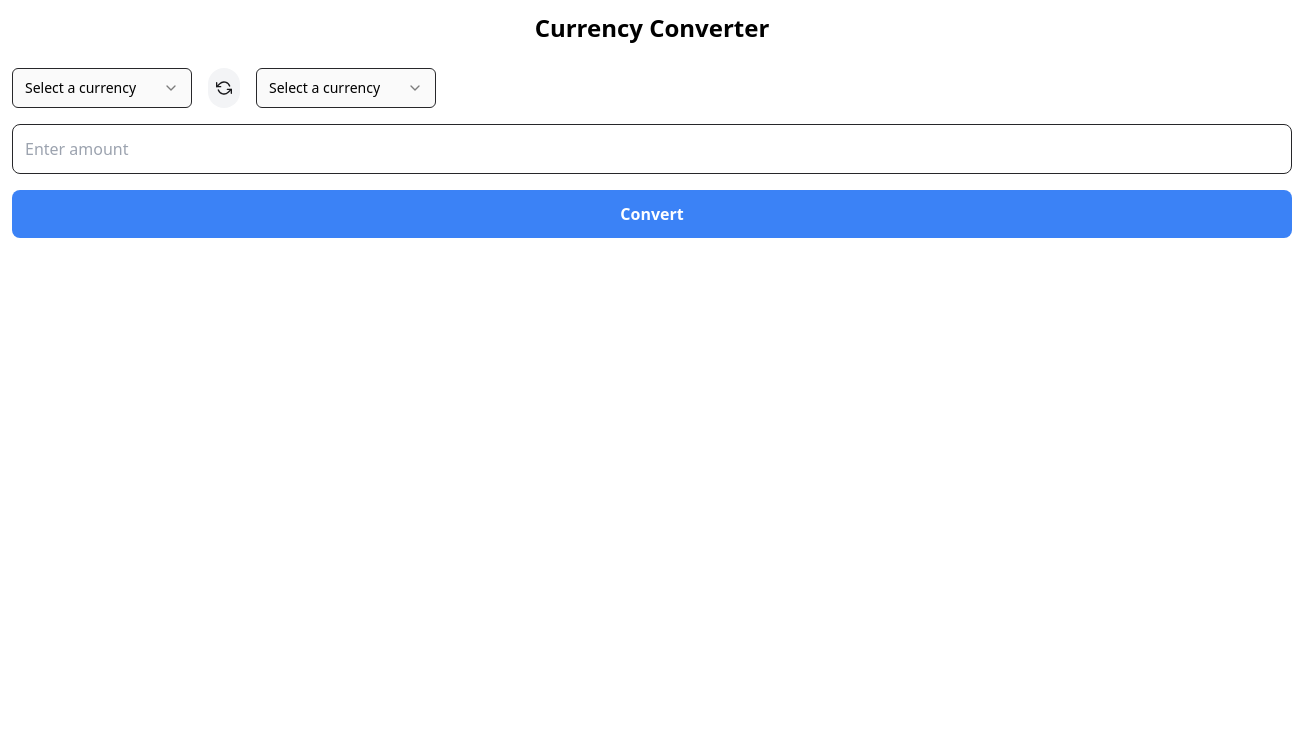
Test case: CurrencyConverter › currencies can be swapped
The width and height of the screenshot is (1304, 732).
# Open the 'From Currency' dropdown
Click the 1st dropdown labelled "Select a currency" at {"x": 102, "y": 88}, box [12,68,192,108]
(page scrolled)
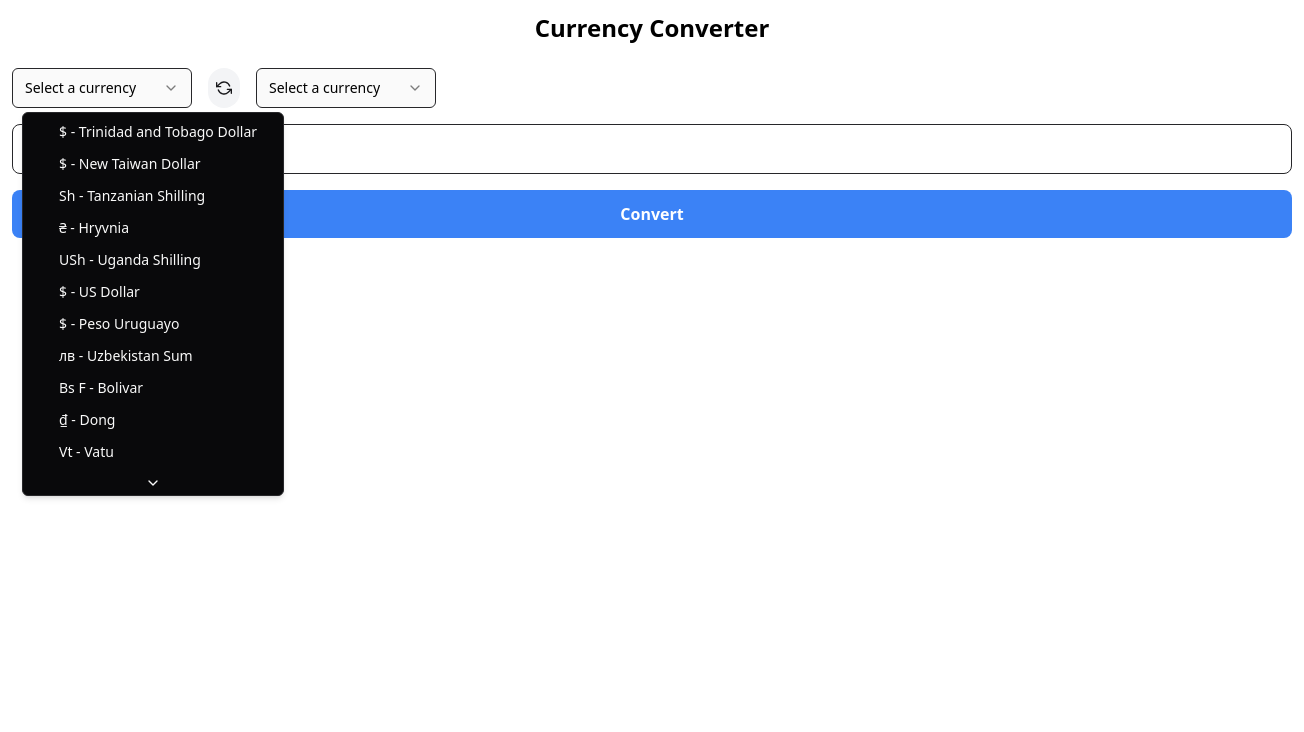
# Select 'US Dollar'
Click the text "US Dollar" at {"x": 109, "y": 292}, box [79,282,140,301]
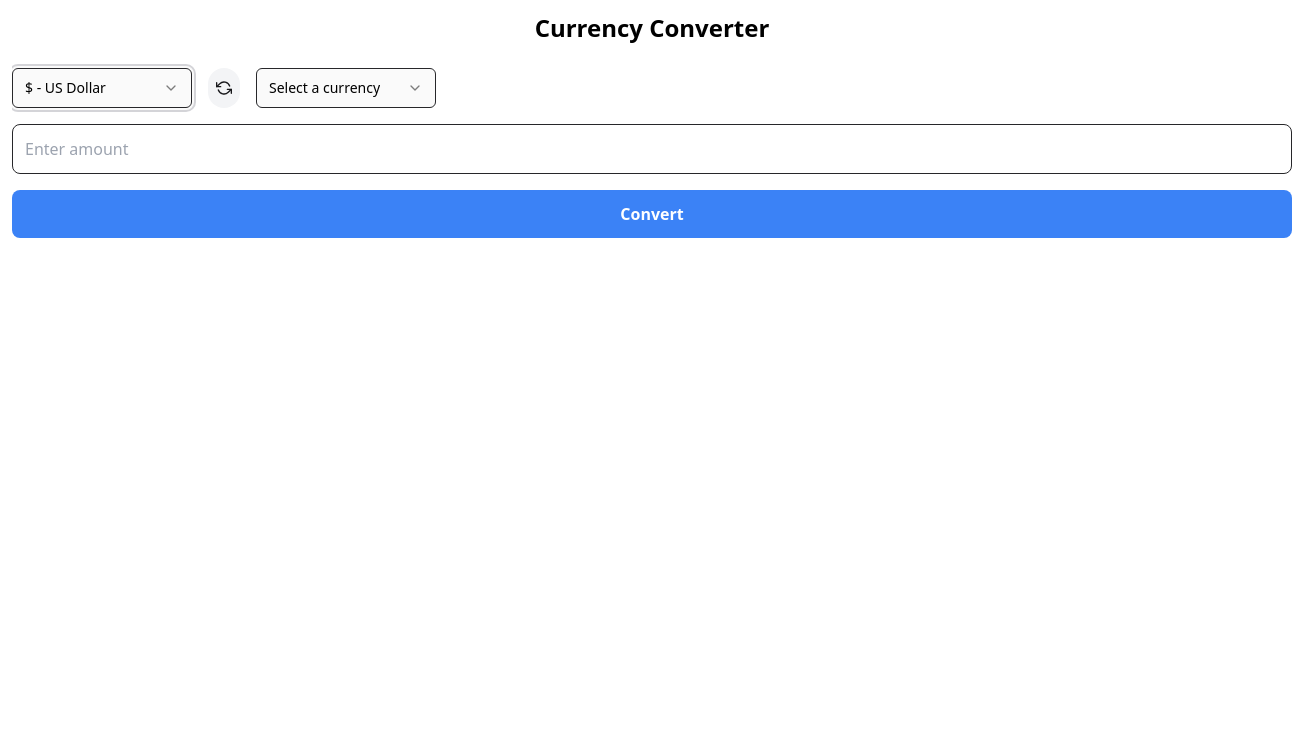
# Open the 'To Currency' dropdown
Click the dropdown labelled "Select a currency" at {"x": 346, "y": 88}, box [256,68,436,108]
(page scrolled)
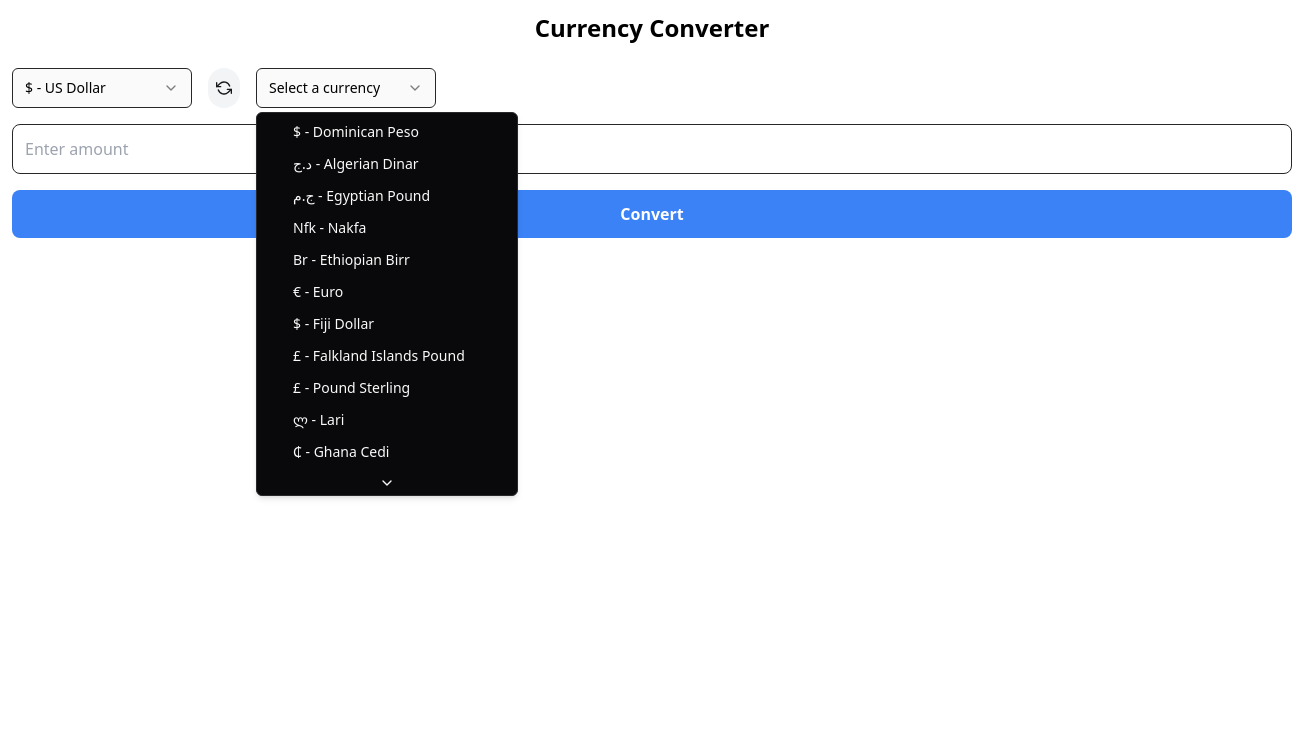
# Select 'Euro'
Click the text "Euro" at {"x": 328, "y": 292}, box [313,282,343,301]
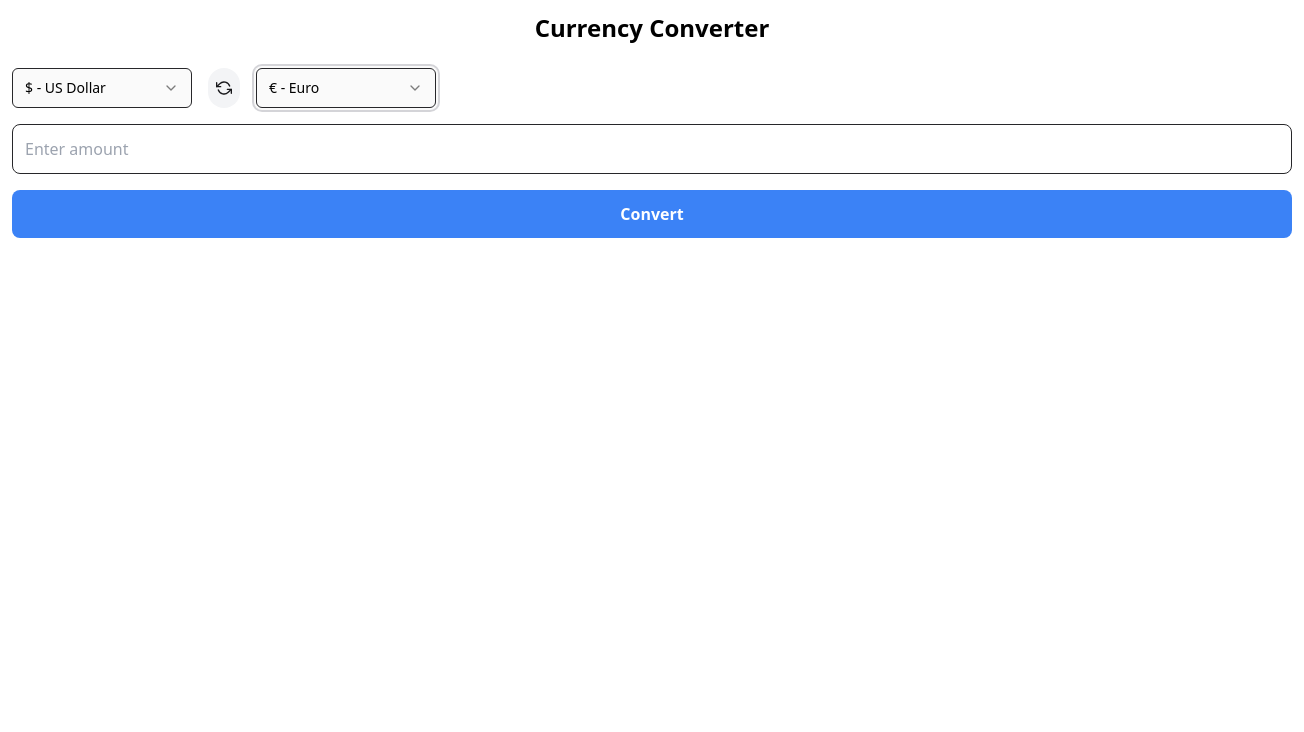
Click the button with test id "currency-swap" at {"x": 224, "y": 88}, box [208,68,240,108]
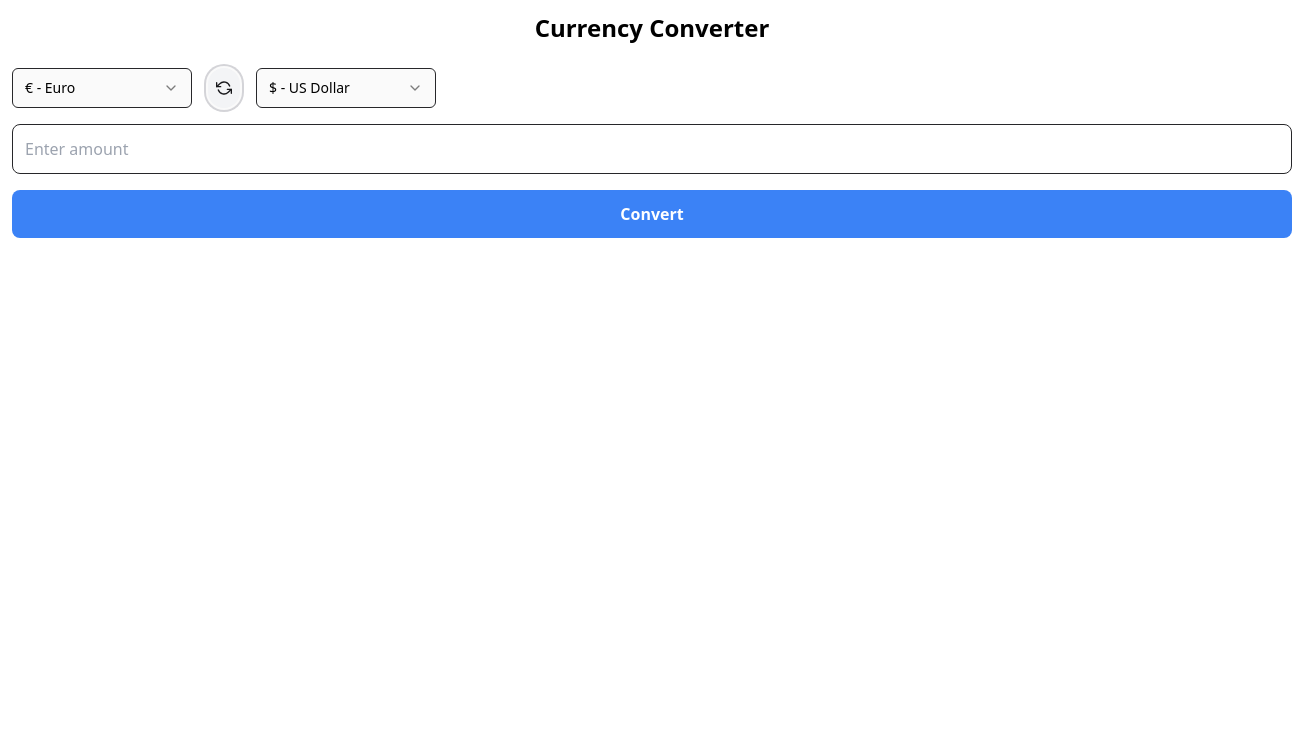
Result: the dropdown labelled "€ - Euro" is shown at [12,68,192,108]
Result: the dropdown labelled "$ - US Dollar" is shown at [256,68,436,108]
